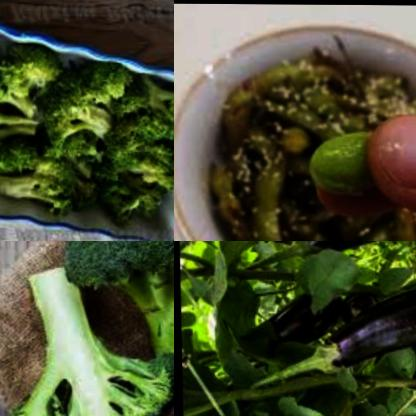beans: (226, 64, 388, 241)
broccoli: (0, 34, 174, 230), (0, 252, 168, 416), (34, 241, 174, 387)
eggplant: (231, 283, 351, 374), (303, 281, 416, 371)
